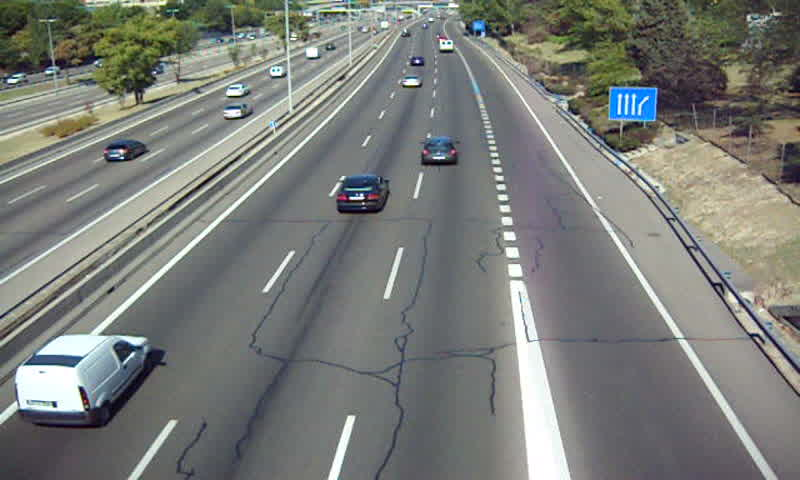car: (337, 174, 387, 212), (421, 138, 458, 164), (401, 74, 422, 89), (408, 56, 425, 70)
van: (15, 334, 151, 428)
